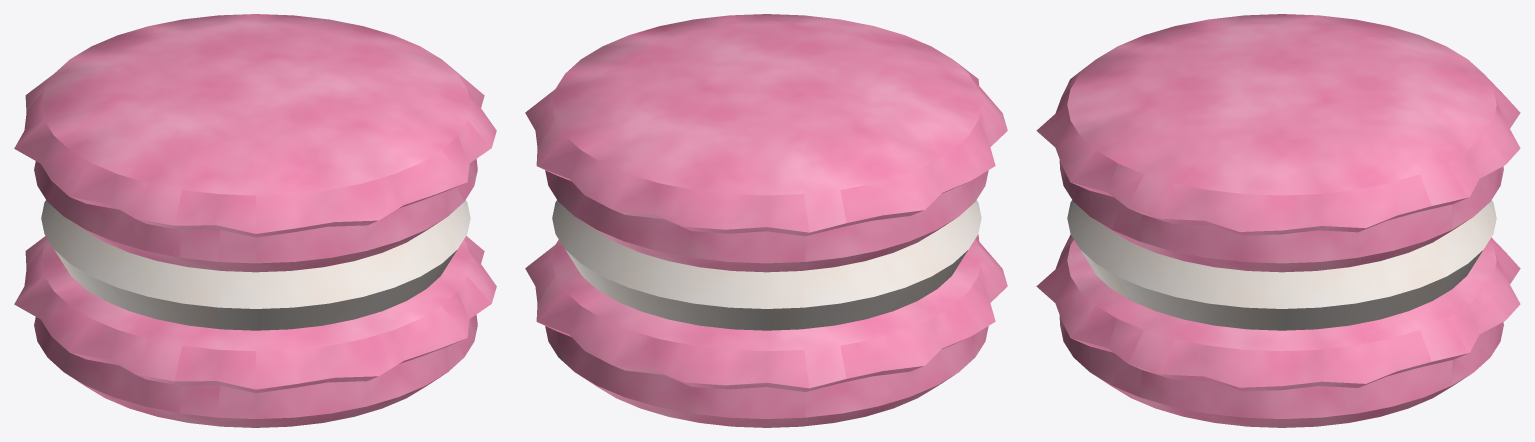
The model's file is GIN_Macaron.fbx.
3 views of the same model, side by side, from view 1: azimuth 30°, elevation 25°; view 2: azimuth 150°, elevation 25°; view 3: azimuth 270°, elevation 25° (orthographic).
Visible parts, largest first — view 1: GIN_Macaron; view 2: GIN_Macaron; view 3: GIN_Macaron.
Boxes of the visible parts, bbox=[...] form: GIN_Macaron: bbox=[14, 14, 496, 427]; GIN_Macaron: bbox=[525, 14, 1007, 427]; GIN_Macaron: bbox=[1036, 14, 1520, 427].
Bounding box in the file's own units: 1.34 × 0.82 × 1.35.
